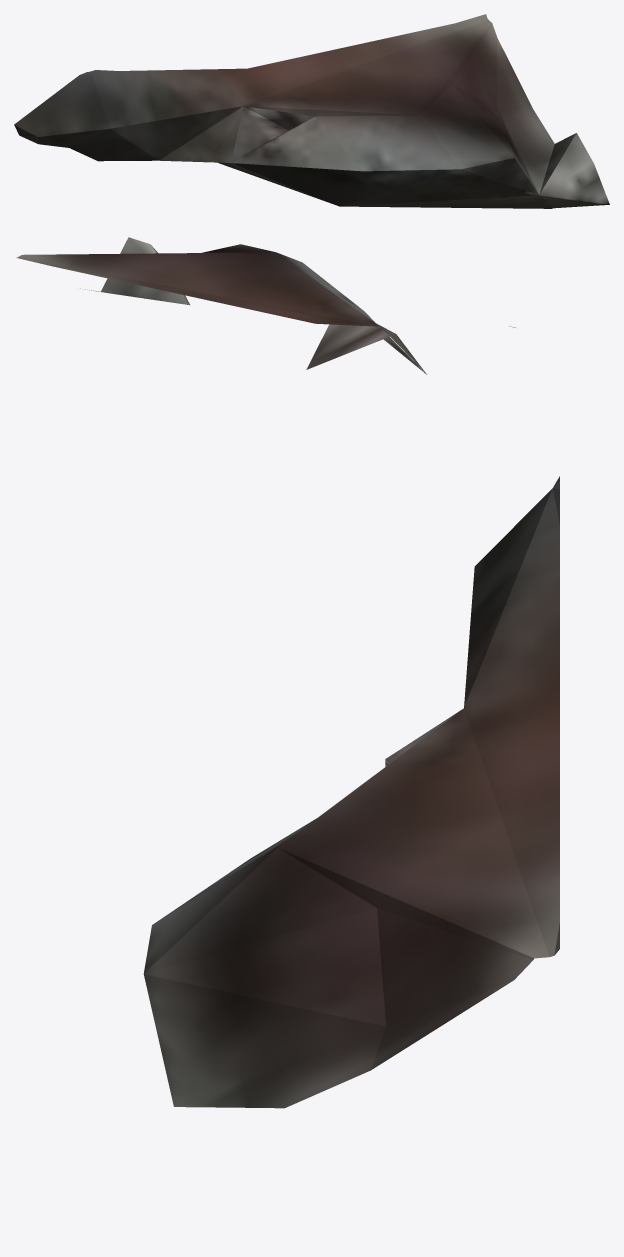
3 views of the same model, one above another, from view 1: azimuth 30°, elevation 25°; view 2: azimuth 150°, elevation 25°; view 3: azimuth 270°, elevation 25° (orthographic). The views are drawn at different scales.
Size of the model in its own units: 0.1982 by 0.0747 by 0.0901.
Materials: 1 (1 with a texture image).
